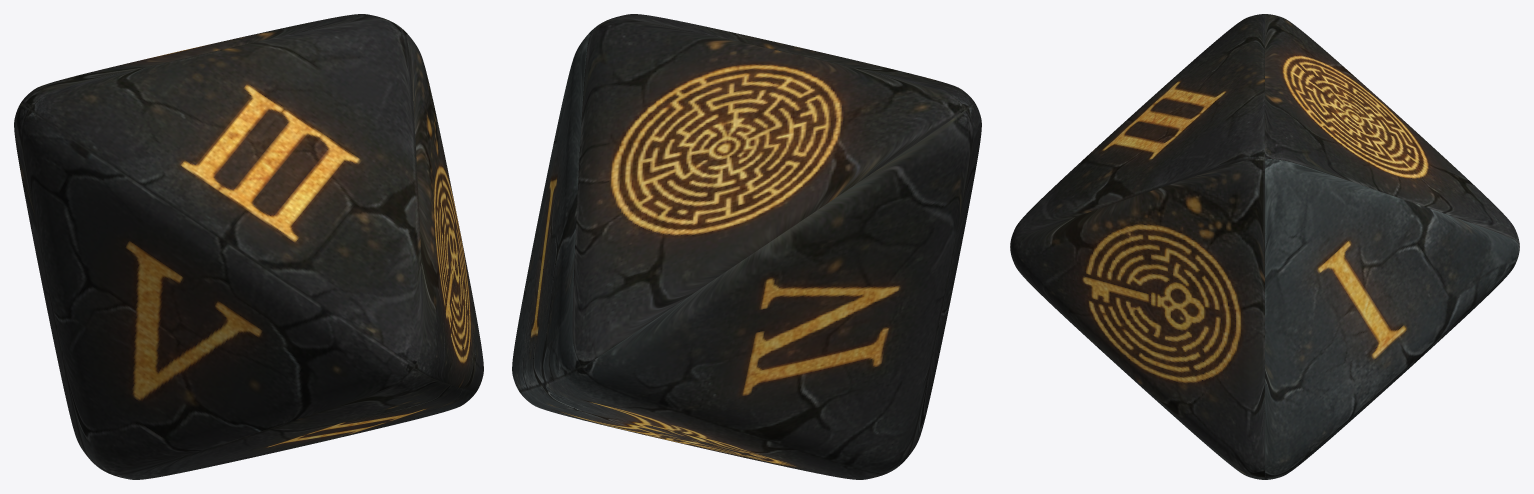
Rendered from Dado8Caras.fbx.
The picture shows the model from 3 angles, left to right: view 1: azimuth 30°, elevation 25°; view 2: azimuth 150°, elevation 25°; view 3: azimuth 270°, elevation 25°; orthographic projection. The views are drawn at different scales.
Visible parts, largest first — view 1: Dado corregido; view 2: Dado corregido; view 3: Dado corregido.
Part boxes in pixels (x1,y1,x2,y2): Dado corregido: (14, 14, 483, 479); Dado corregido: (512, 14, 981, 479); Dado corregido: (1010, 14, 1519, 479).
Bounding box in the file's own units: 135 × 117 × 170.
Materials: 1 (1 with a texture image).
